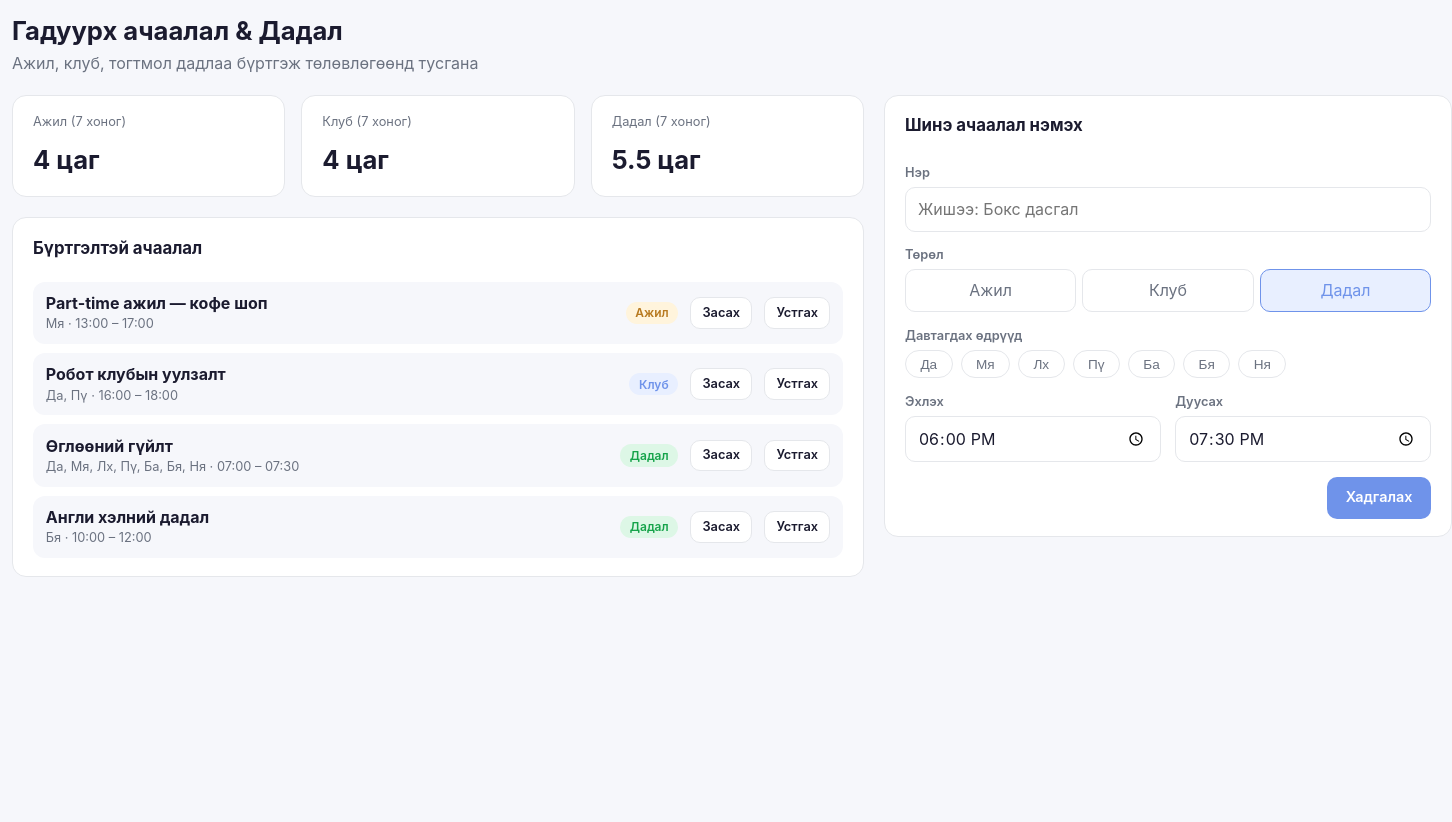
Commitment & Habit CRUD › DELETE: Дадлыг устгана
Step 1. Type "Гүйх" into the field with test id "field-title" → (1168, 210), box [905,187,1431,232]
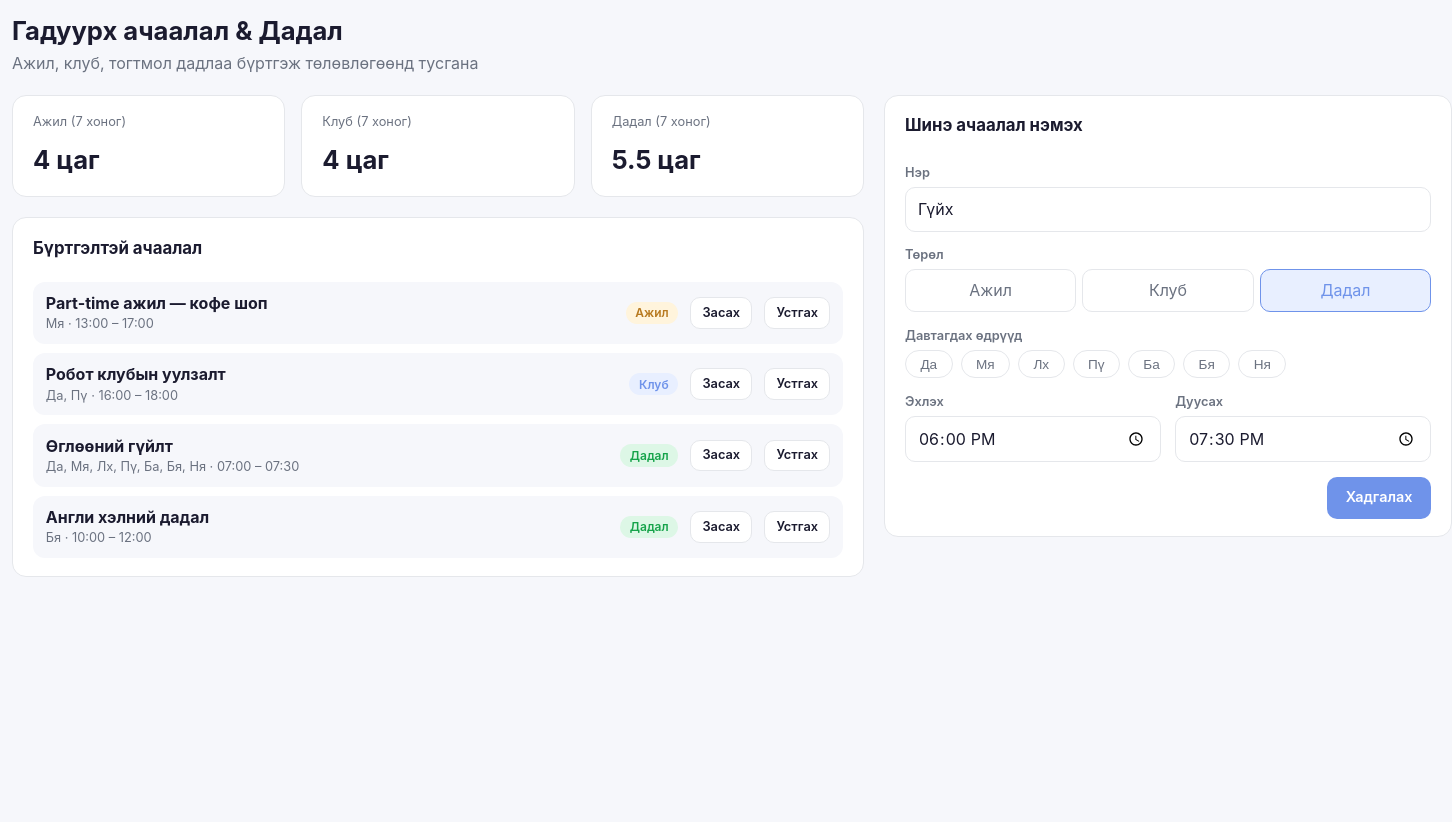
Step 2. Click the button with test id "day-0" → (929, 364), box [905,350,953,378]
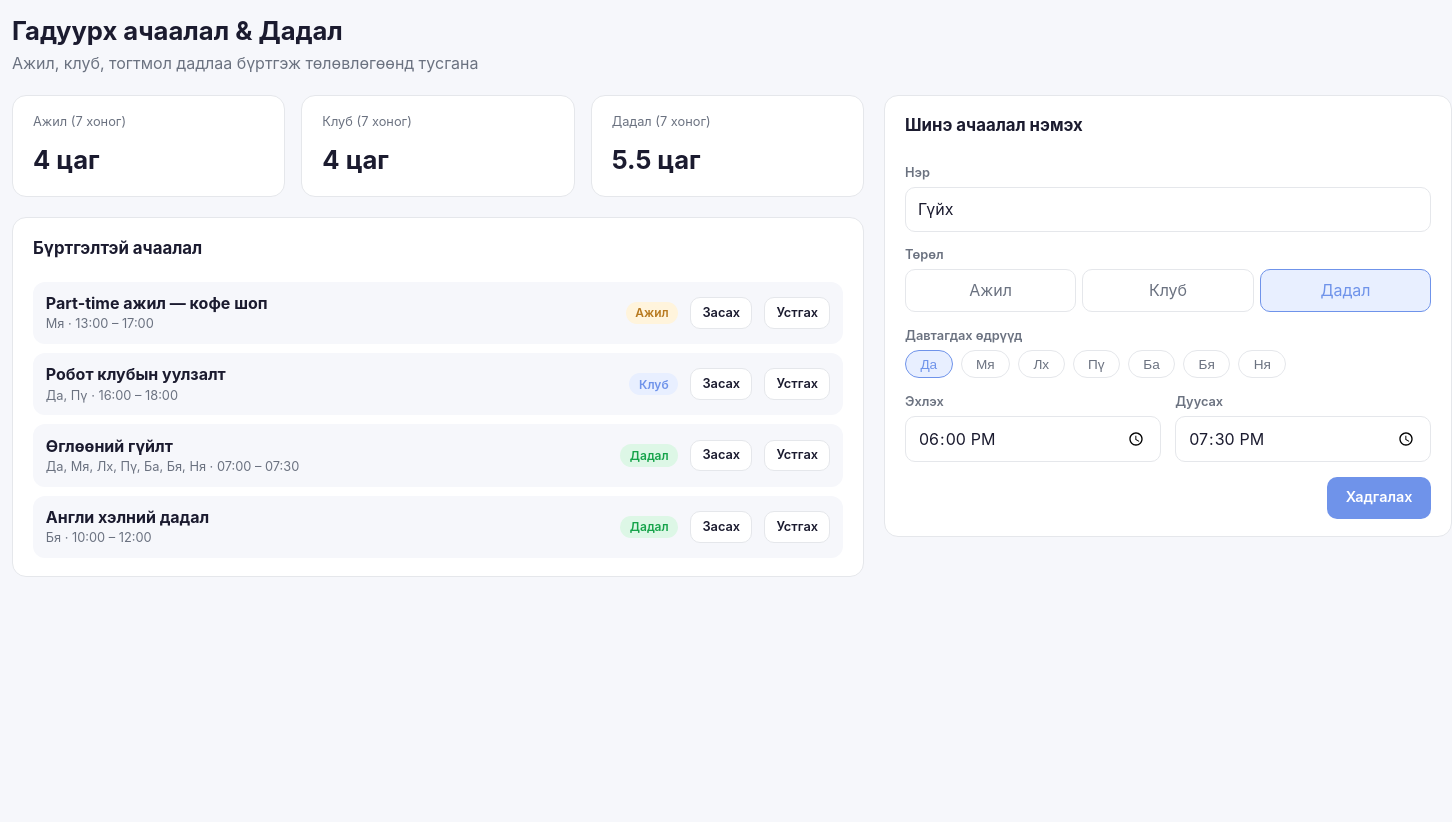
Step 3. Click the button with test id "submit" → (1379, 498), box [1327,477,1431,519]
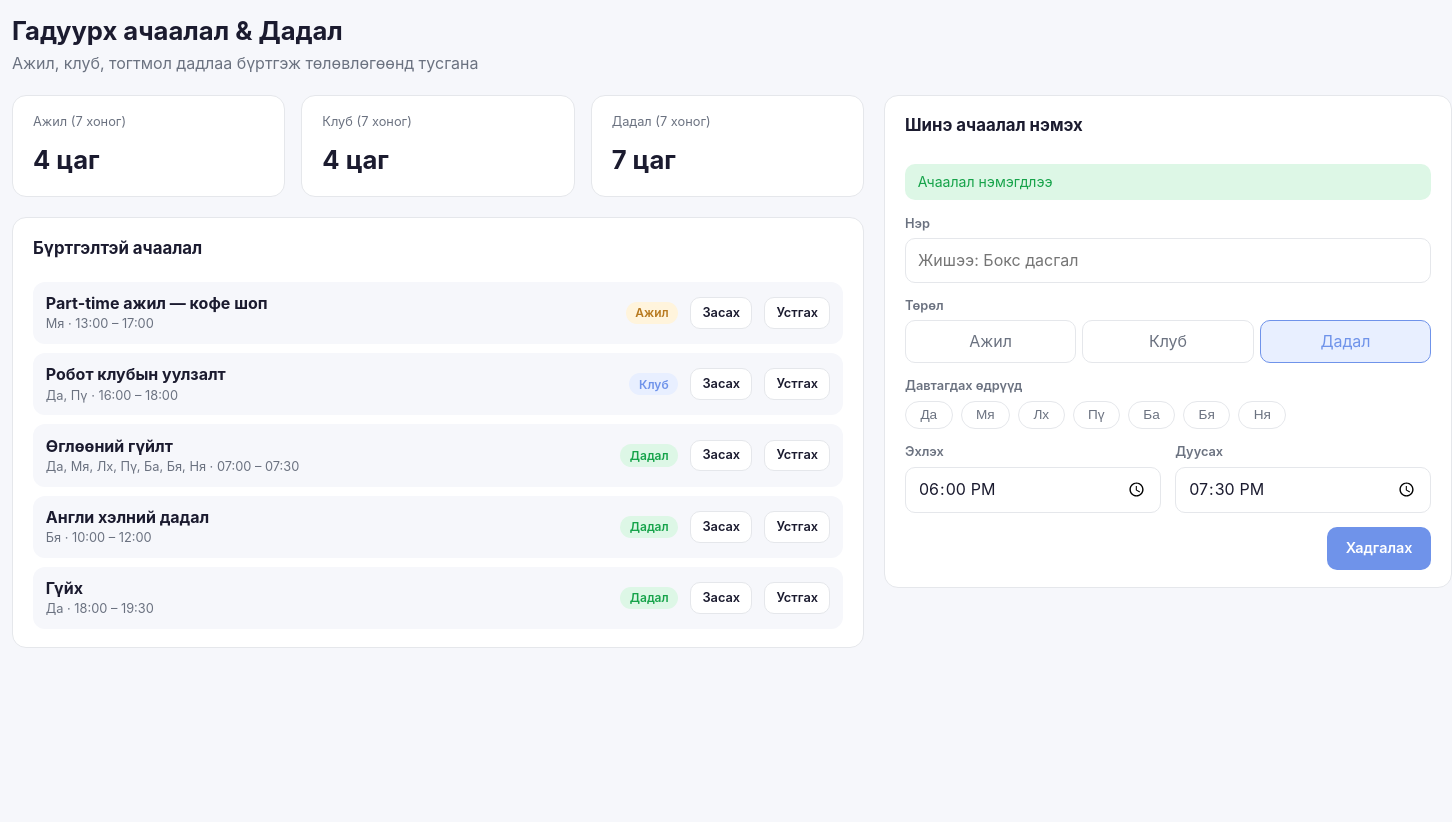
Step 4. Click the button with aria-label "Гүйх устгах" → (797, 598), box [764,582,830,614]
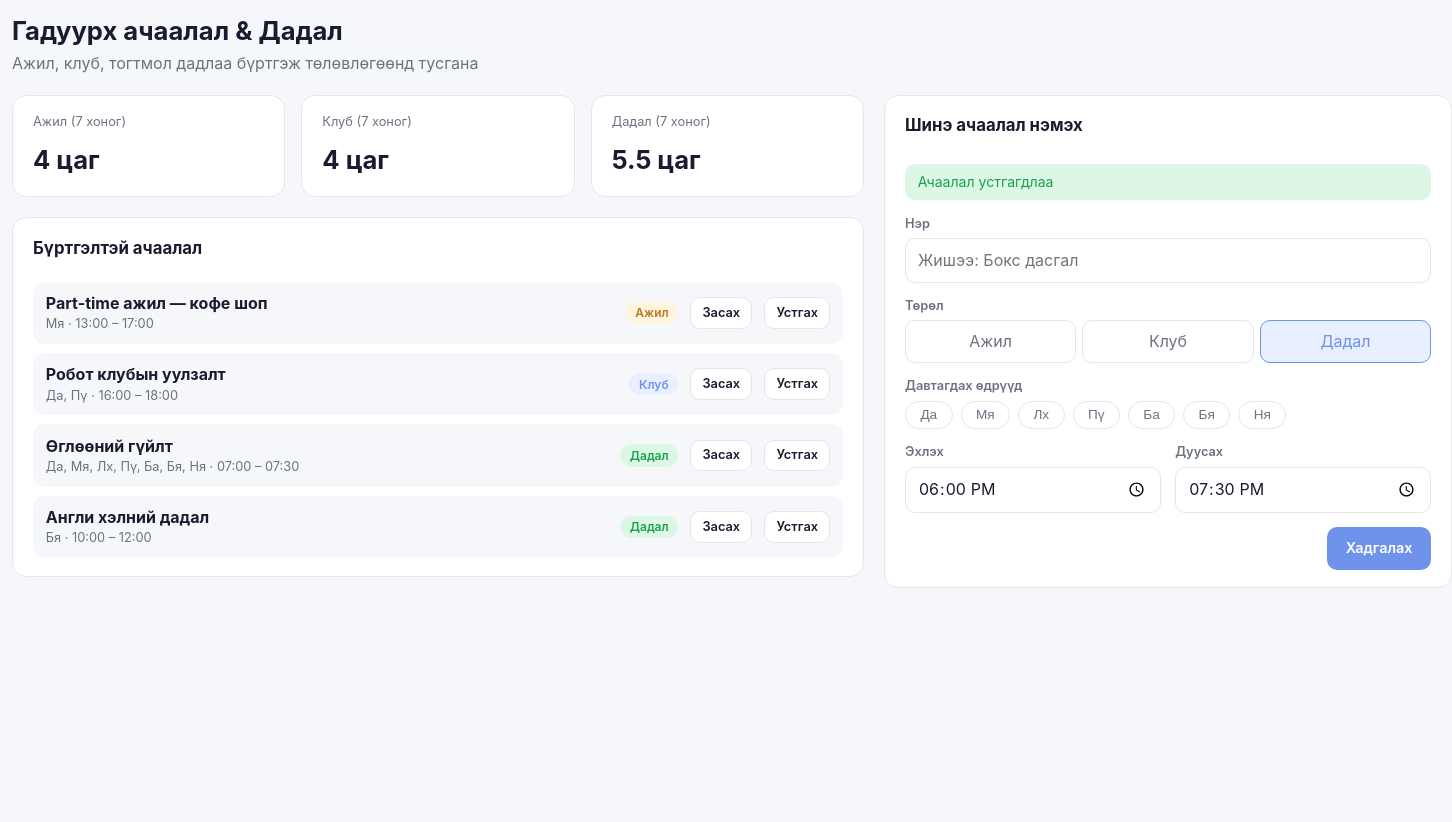
Expected: the text "Гүйх" is gone
Expected: the text "Ачаалал устгагдлаа" is shown, [905,164,1431,200]
